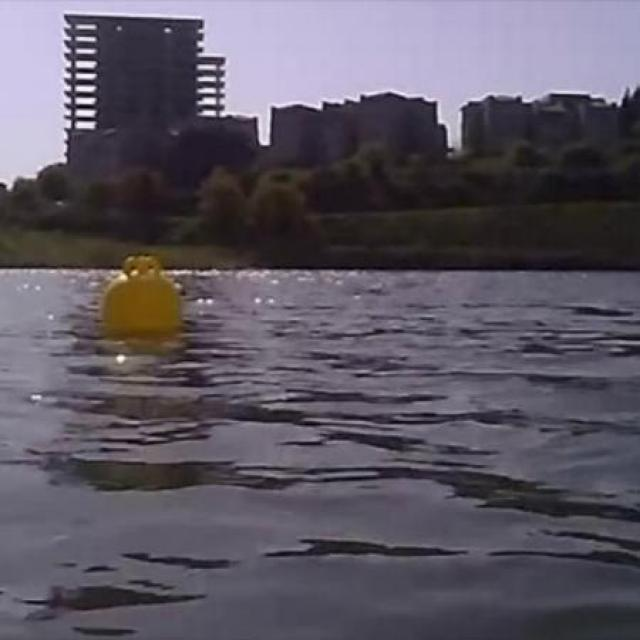buoy: (100, 255, 184, 342)
